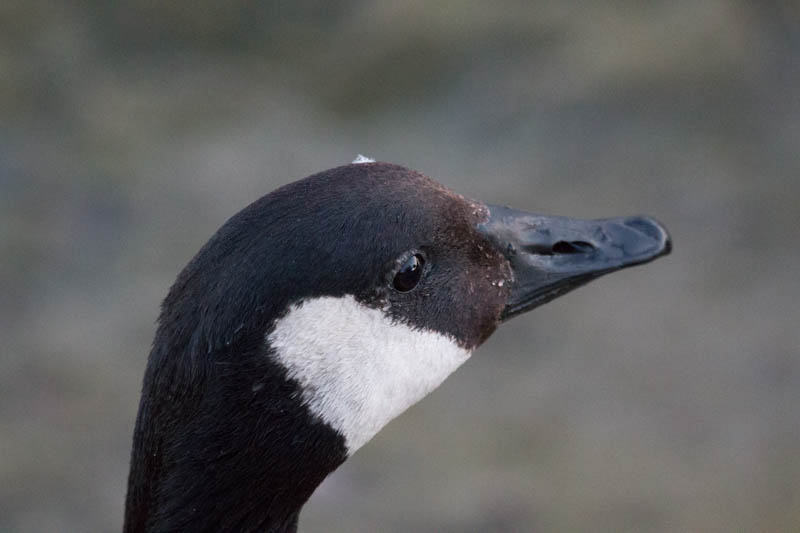goose-head: (116, 159, 674, 500)
